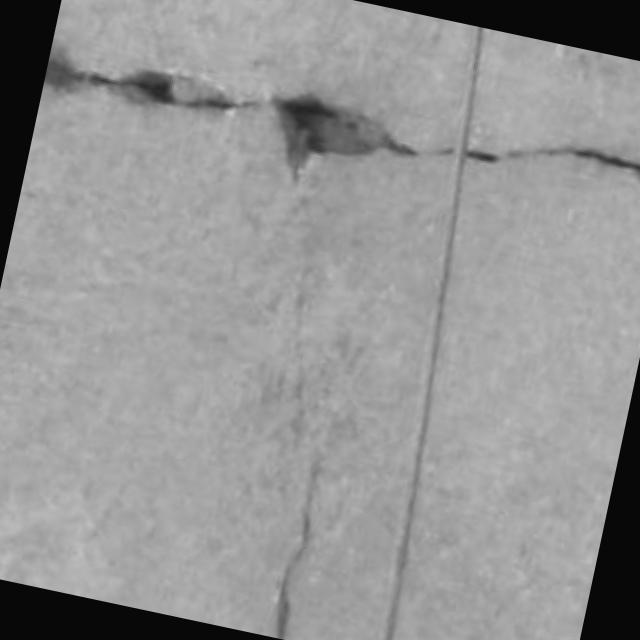crack: (44, 47, 262, 110), (44, 47, 259, 110), (275, 458, 322, 639)
